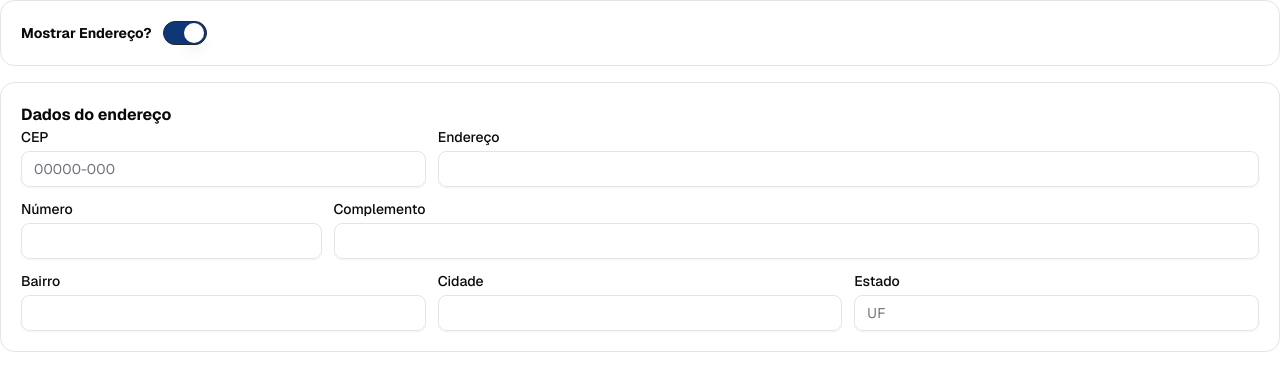
Test: EnderecoSection › formats CEP with a dash after 5 digits
This screenshot has width=1280, height=369.
Type "01310100" into the field labelled "CEP" at coordinates (223, 169), box [21, 151, 426, 187]
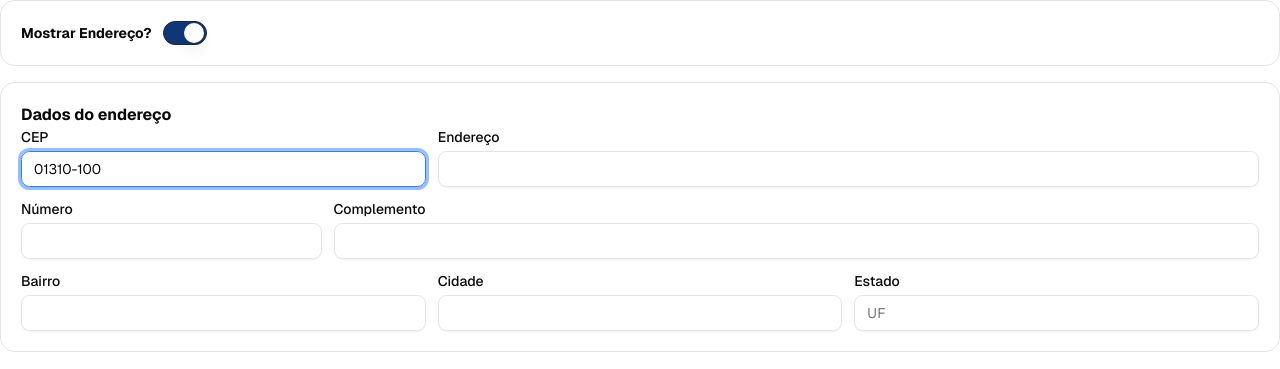
Expected: the field labelled "CEP" holds "01310-100", [21, 151, 426, 187]
